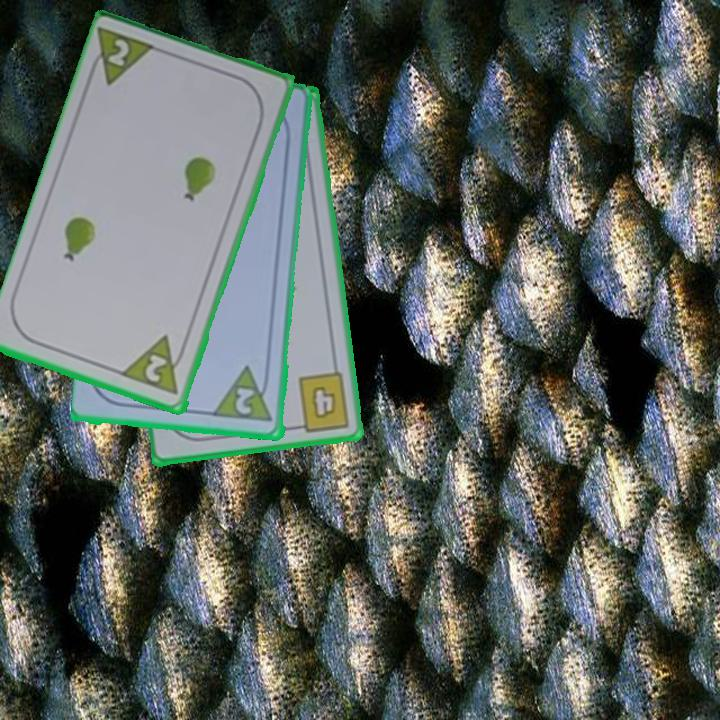2p: (83, 24, 162, 90), (120, 332, 191, 399), (232, 384, 258, 418)
4b: (289, 369, 353, 435)
